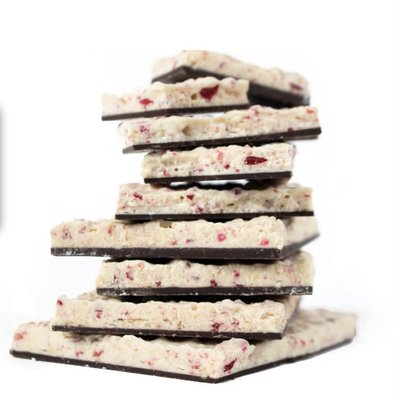sandwich: (37, 301, 362, 382)
